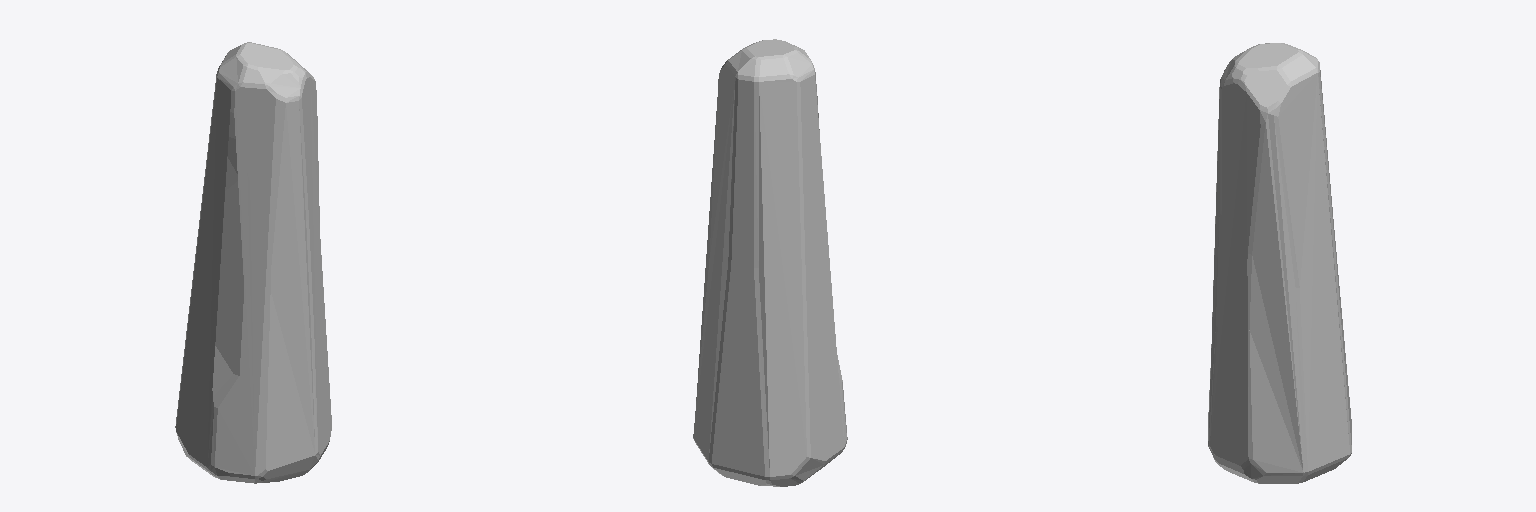
The model's file is rock_long_0.obj.
The picture shows the model from 3 angles: view 1: azimuth 30°, elevation 25°; view 2: azimuth 150°, elevation 25°; view 3: azimuth 270°, elevation 25°; orthographic projection.
Visible parts, largest first — view 1: rock_long_0; view 2: rock_long_0; view 3: rock_long_0.
Boxes of the visible parts, <box> form: rock_long_0: <box>175,42,331,483</box>; rock_long_0: <box>693,39,847,486</box>; rock_long_0: <box>1208,43,1351,483</box>.
Size of the model in its own units: 1.97 by 6.19 by 1.97.